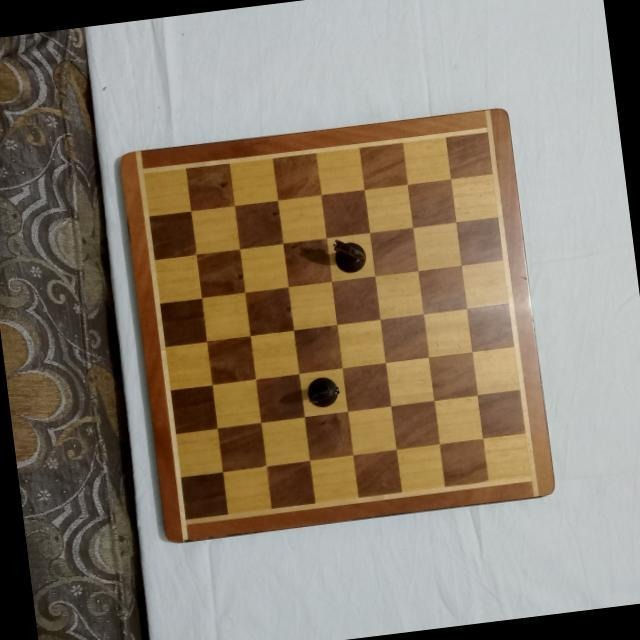black-knight: (329, 234, 371, 275), (302, 373, 342, 409)
